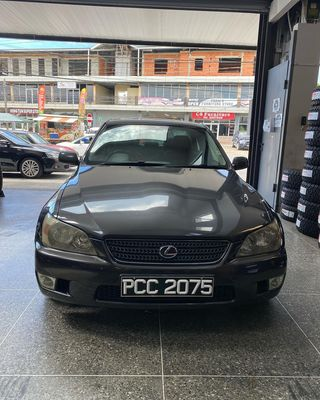License-Plate: (120, 276, 213, 295)
